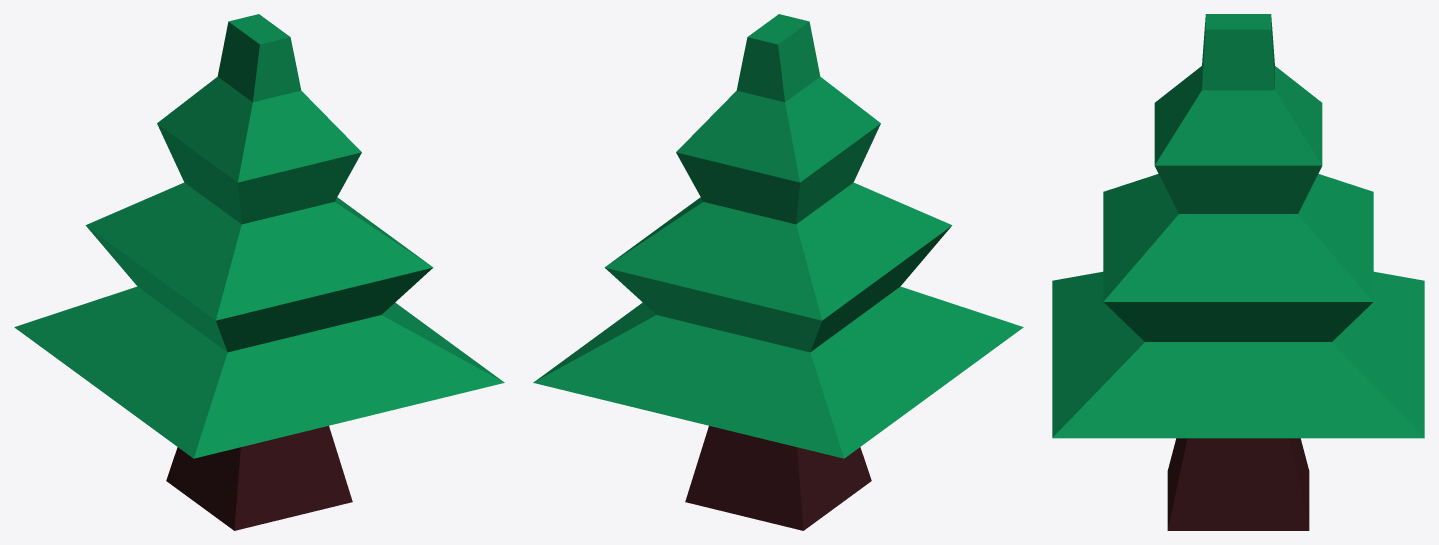
File: tree.fbx
The picture shows the model from 3 angles, left to right: view 1: azimuth 30°, elevation 25°; view 2: azimuth 150°, elevation 25°; view 3: azimuth 270°, elevation 25°; orthographic projection. The views are drawn at different scales.
Visible parts, largest first — view 1: Cube; view 2: Cube; view 3: Cube.
Part boxes in pixels (x1=…): Cube: x1=14, y1=14, x2=504, y2=530; Cube: x1=533, y1=14, x2=1023, y2=530; Cube: x1=1052, y1=14, x2=1424, y2=530.
Bounding box in the file's own units: 200 × 284 × 200.
